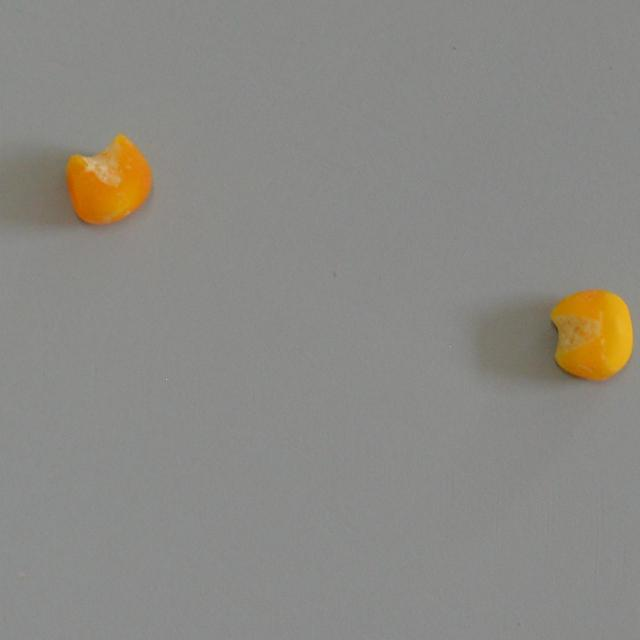no_canjicado: (62, 126, 154, 229)
no_desgerminado: (544, 284, 639, 388)
